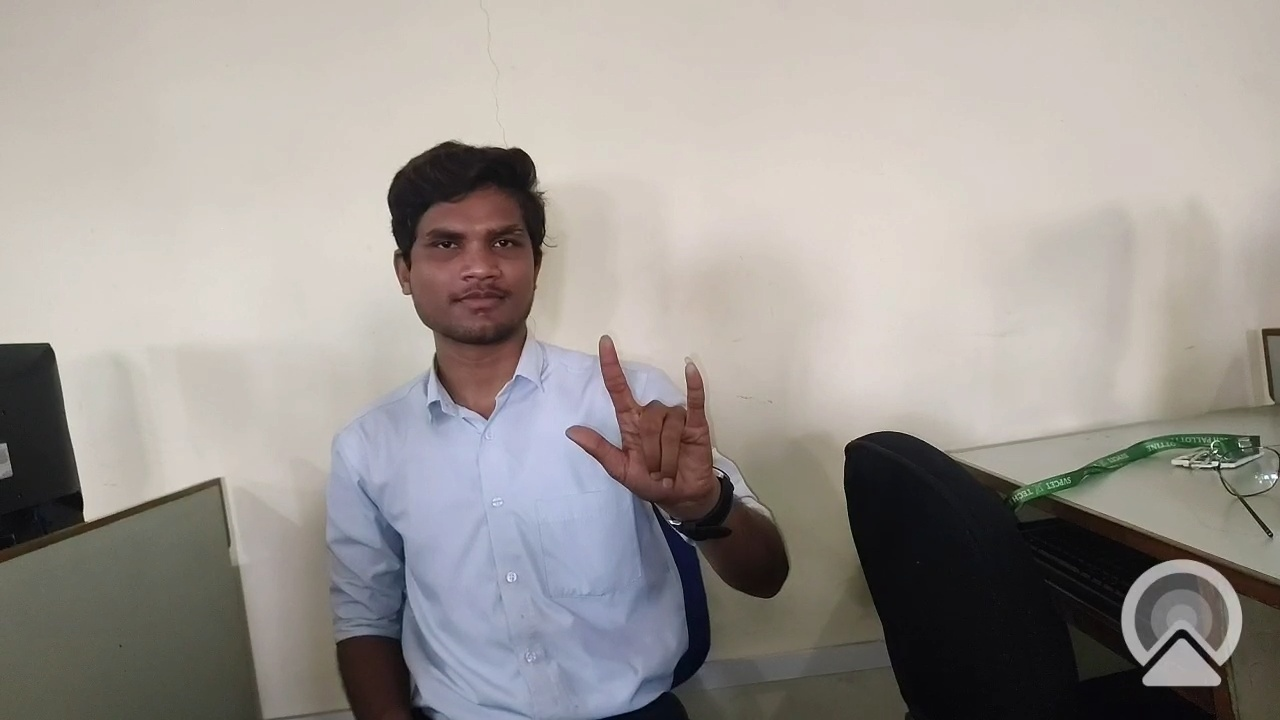I love you: (557, 315, 749, 532)
